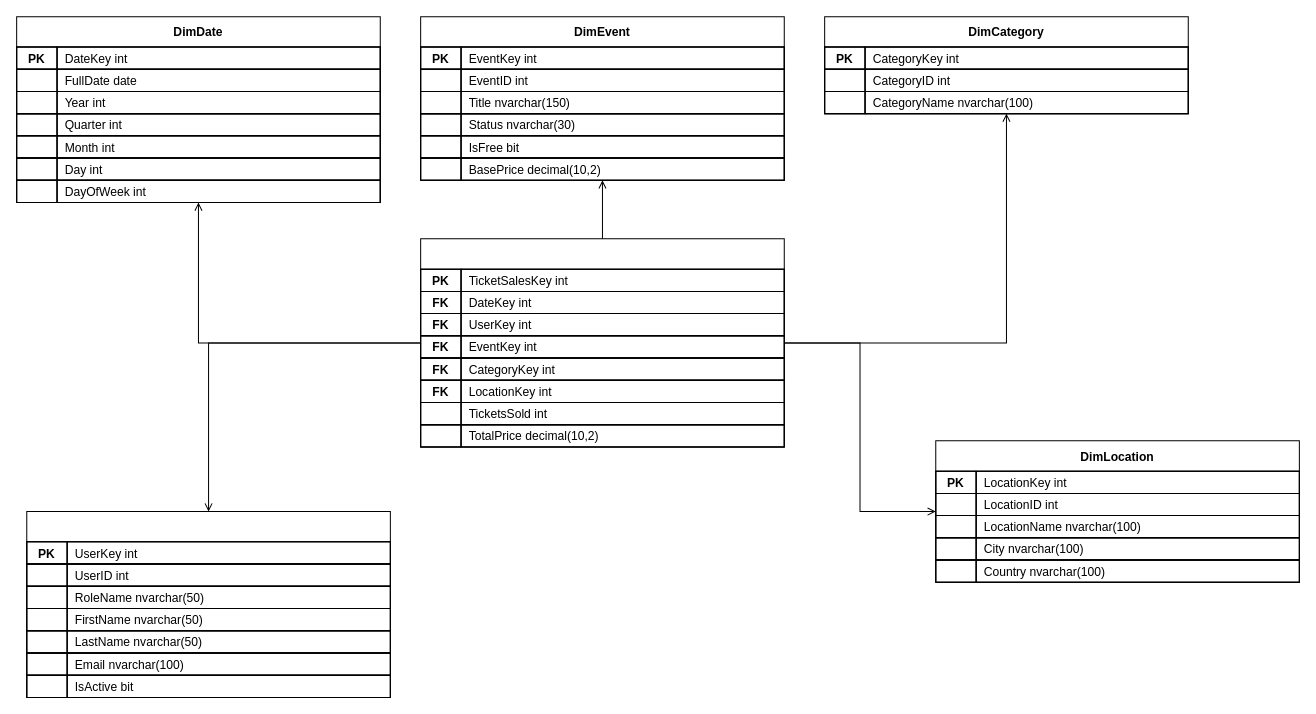
Image size: 1316x714. Some labels were removed from this diagram. The shapes that lost their labels are listed below. From the top down, each one's box as (x1, y1, x2, y2) in pixels, then its label:
(420, 238, 784, 447): Fact_Ticket_Sales
(26, 511, 390, 697): DimUser
